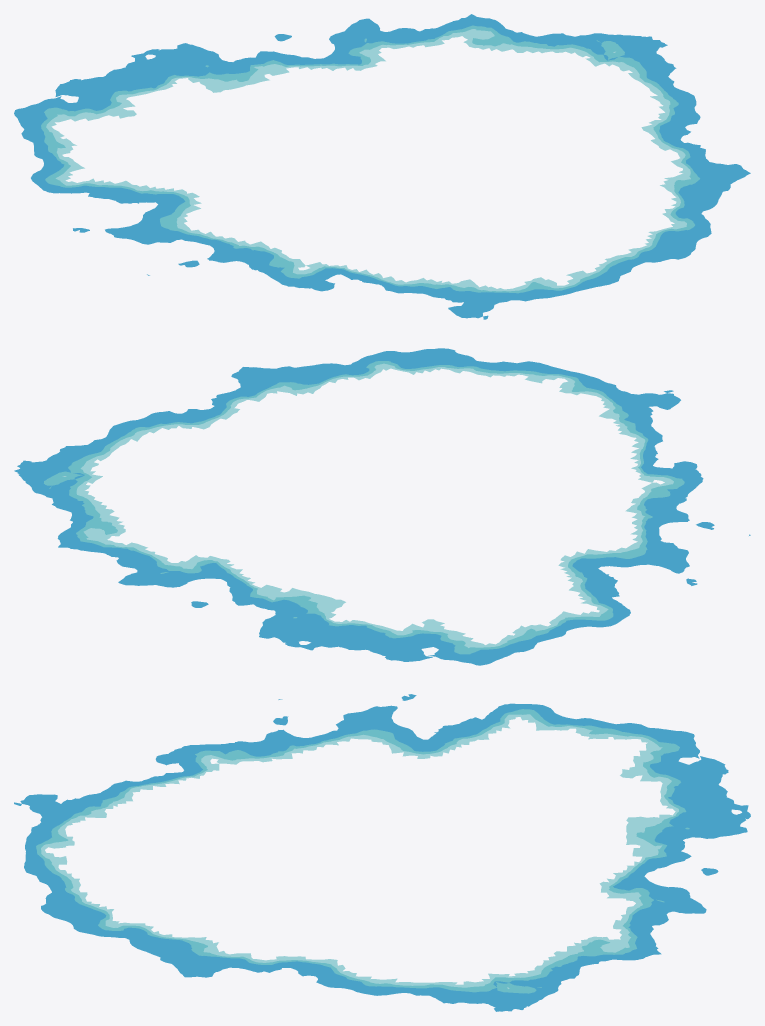
Rendered from Isl-start5-Water.fbx.
The picture shows the model from 3 angles, top to bottom: view 1: azimuth 30°, elevation 25°; view 2: azimuth 150°, elevation 25°; view 3: azimuth 270°, elevation 25°; orthographic projection. The views are drawn at different scales.
Parts seen in each view (by area): view 1: Isl-start5-Water; view 2: Isl-start5-Water; view 3: Isl-start5-Water.
Boxes of the visible parts, x1,y1,x2,y2 form: Isl-start5-Water: [14, 14, 750, 319]; Isl-start5-Water: [14, 348, 750, 665]; Isl-start5-Water: [14, 694, 750, 1011].
Size of the model in its own units: 114 by 0 by 112.
